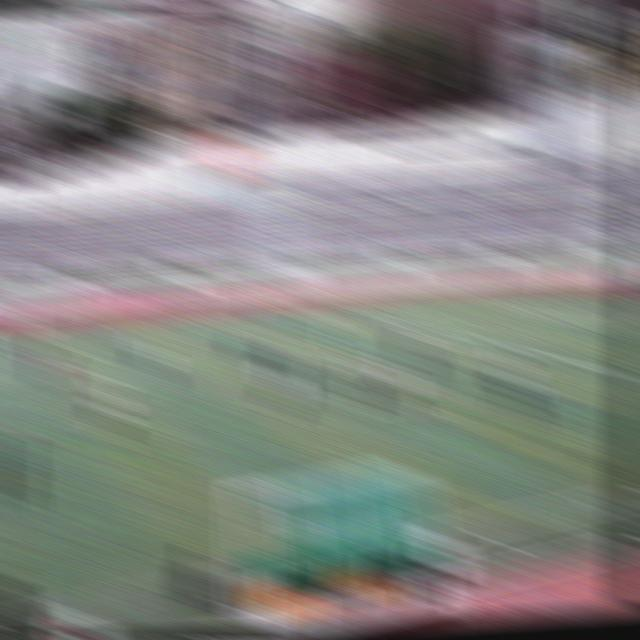bigarea_top_inner: (349, 304, 376, 324)
bigarea_top_outter: (490, 291, 518, 306)
bottom_arc_area_intersection: (510, 338, 541, 362)
corner: (430, 284, 455, 298)
smallarea_top_inner: (515, 302, 541, 323)
smallarea_top_outter: (562, 299, 587, 316)
top_arc_area_intersection: (412, 315, 440, 339)
